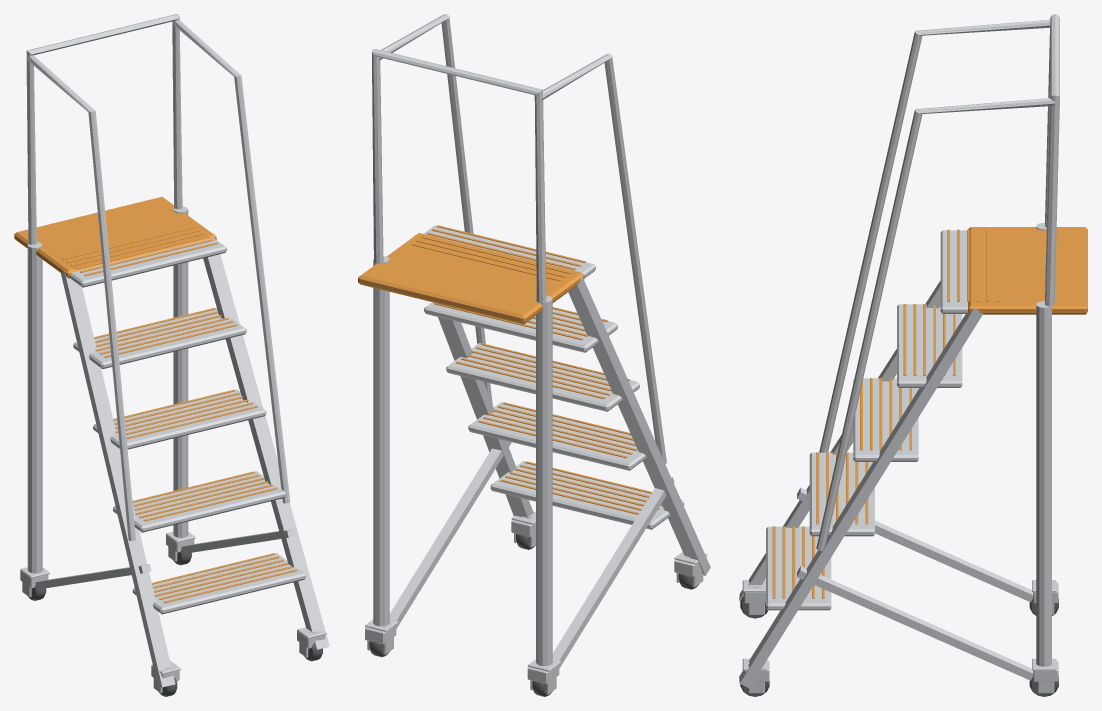
The picture shows the model from 3 angles, left to right: view 1: azimuth 30°, elevation 25°; view 2: azimuth 150°, elevation 25°; view 3: azimuth 270°, elevation 25°; orthographic projection. The views are drawn at different scales.
Visible parts, largest first — view 1: stock-picking-ladder; view 2: stock-picking-ladder; view 3: stock-picking-ladder.
Part boxes in pixels (bbox=[...]): stock-picking-ladder: bbox=[14, 14, 329, 696]; stock-picking-ladder: bbox=[358, 14, 710, 696]; stock-picking-ladder: bbox=[739, 14, 1087, 696].
Bounding box in the file's own units: 0.7815 × 2.43 × 1.28.
